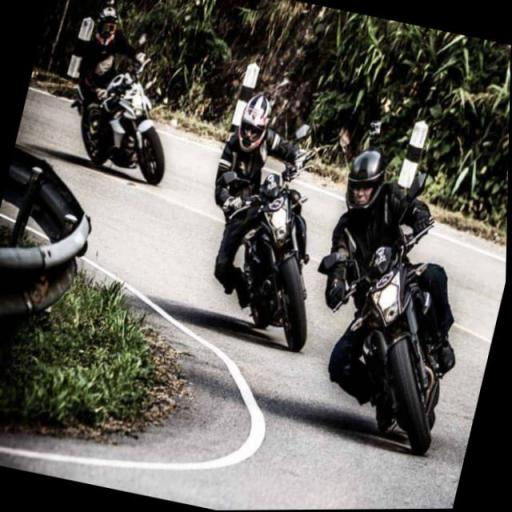Helmet: (333, 136, 400, 226), (226, 84, 280, 158), (88, 10, 122, 59)
Motor: (304, 230, 484, 463), (199, 120, 353, 374), (54, 38, 188, 194)
